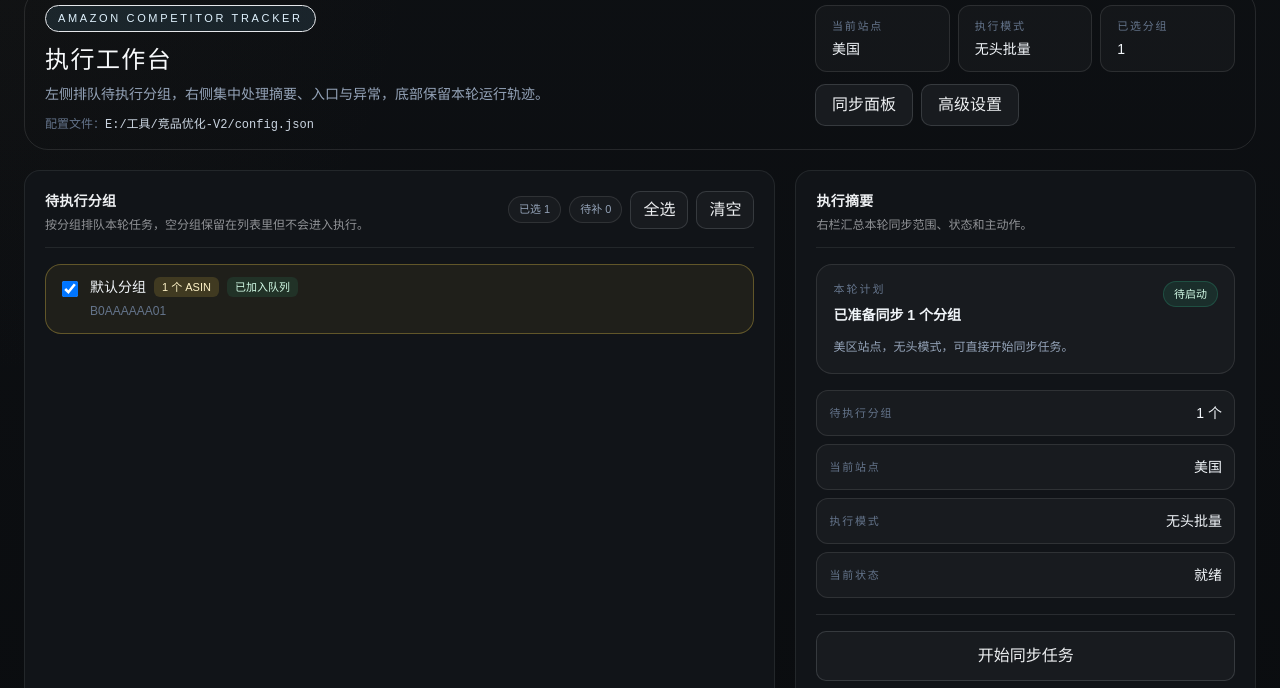
Scenario: App command center home › 恢复默认配置抛出异常时显示明确反馈
Click the tab "高级设置".
click(970, 104)  # box [921,84,1019,126]
(page scrolled)
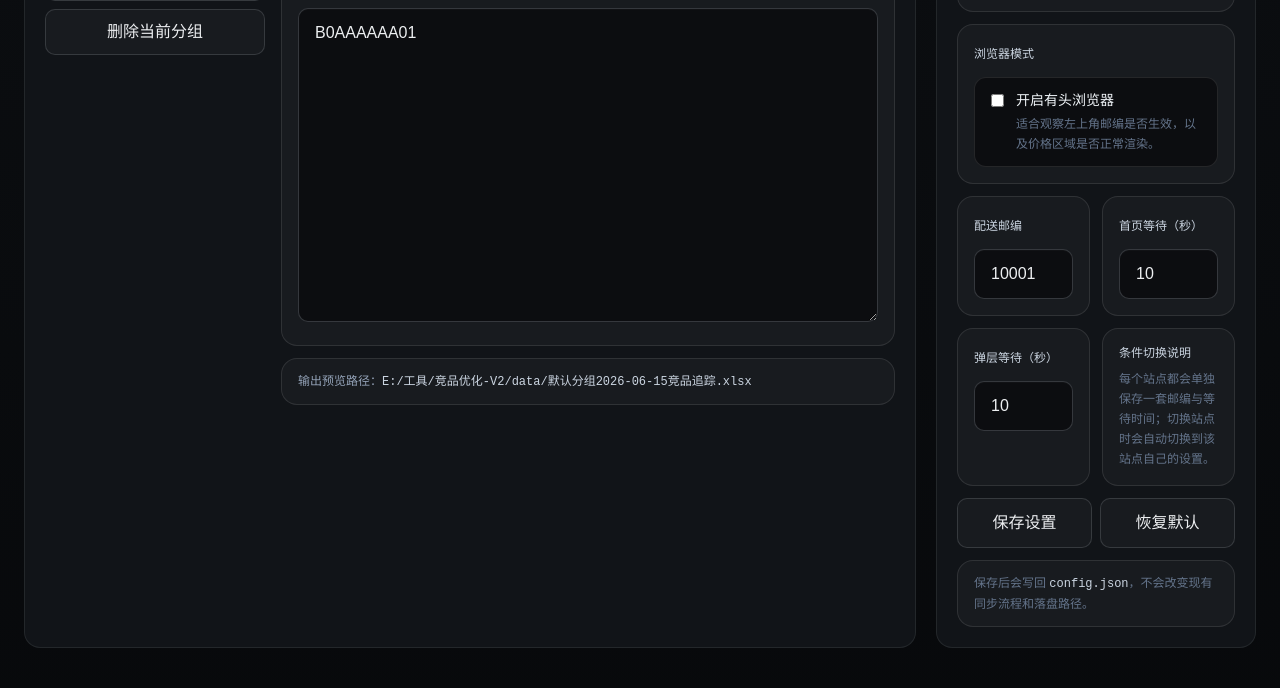
Click the button "恢复默认".
click(1168, 523)  # box [1100,498,1235,548]
(page scrolled)
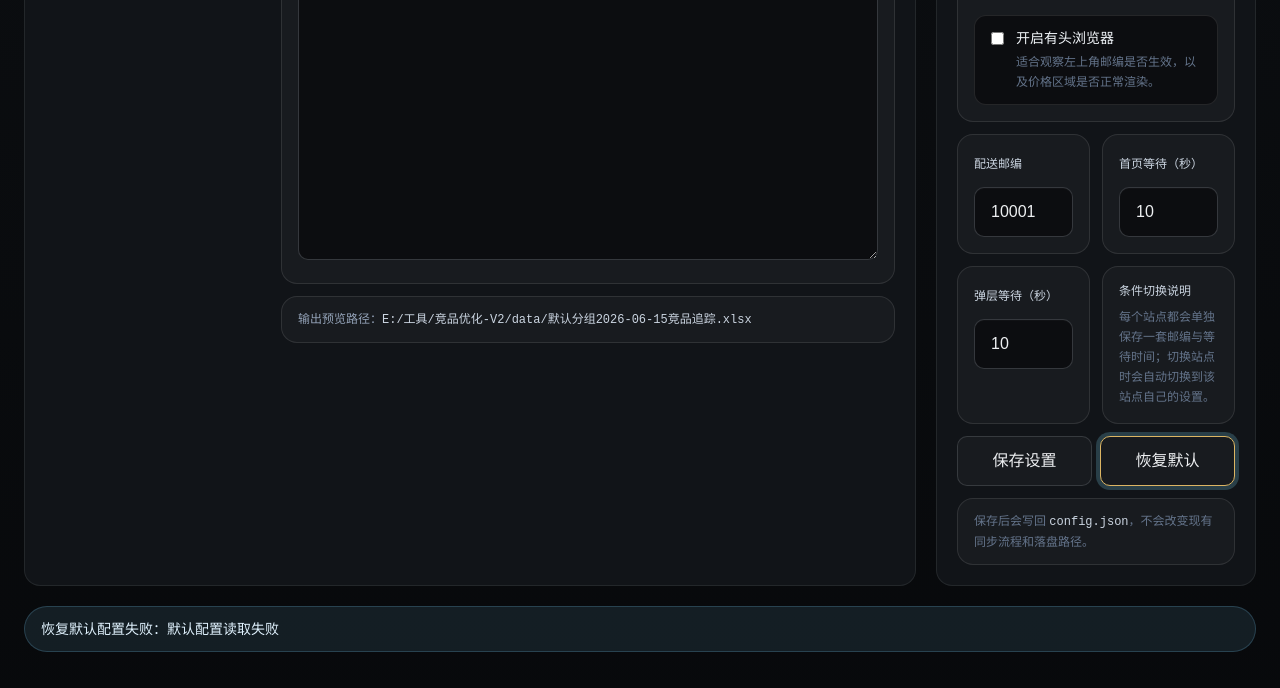
Now the text "恢复默认配置失败：默认配置读取失败" is shown, box [24,606,1256,652]
